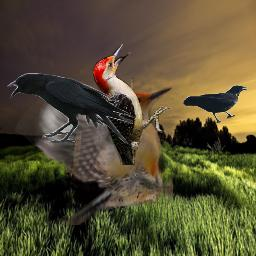Crow: (7, 73, 135, 144), (183, 85, 248, 123)
Woodpecker: (13, 84, 173, 225), (93, 44, 173, 165)
